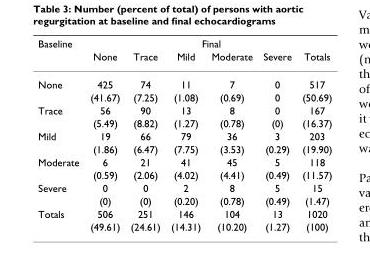table: (37, 36, 331, 232)
table column: (205, 36, 257, 232), (37, 36, 84, 232), (164, 36, 205, 232), (84, 36, 124, 232), (124, 36, 164, 232), (257, 36, 296, 232), (296, 36, 331, 232)
table column header: (37, 36, 331, 69)
table row: (37, 69, 331, 90), (37, 49, 331, 69), (37, 36, 331, 49), (37, 90, 331, 103), (37, 103, 331, 116), (37, 116, 331, 129), (37, 129, 331, 142), (37, 142, 331, 155), (37, 155, 331, 168), (37, 168, 331, 181), (37, 193, 331, 206), (37, 206, 331, 219), (37, 219, 331, 232), (37, 181, 331, 193)
table spanning cell: (84, 36, 331, 49), (37, 69, 84, 103), (37, 36, 84, 69), (37, 103, 84, 129), (37, 129, 84, 155), (37, 155, 84, 181), (37, 206, 84, 232), (37, 181, 84, 206)
